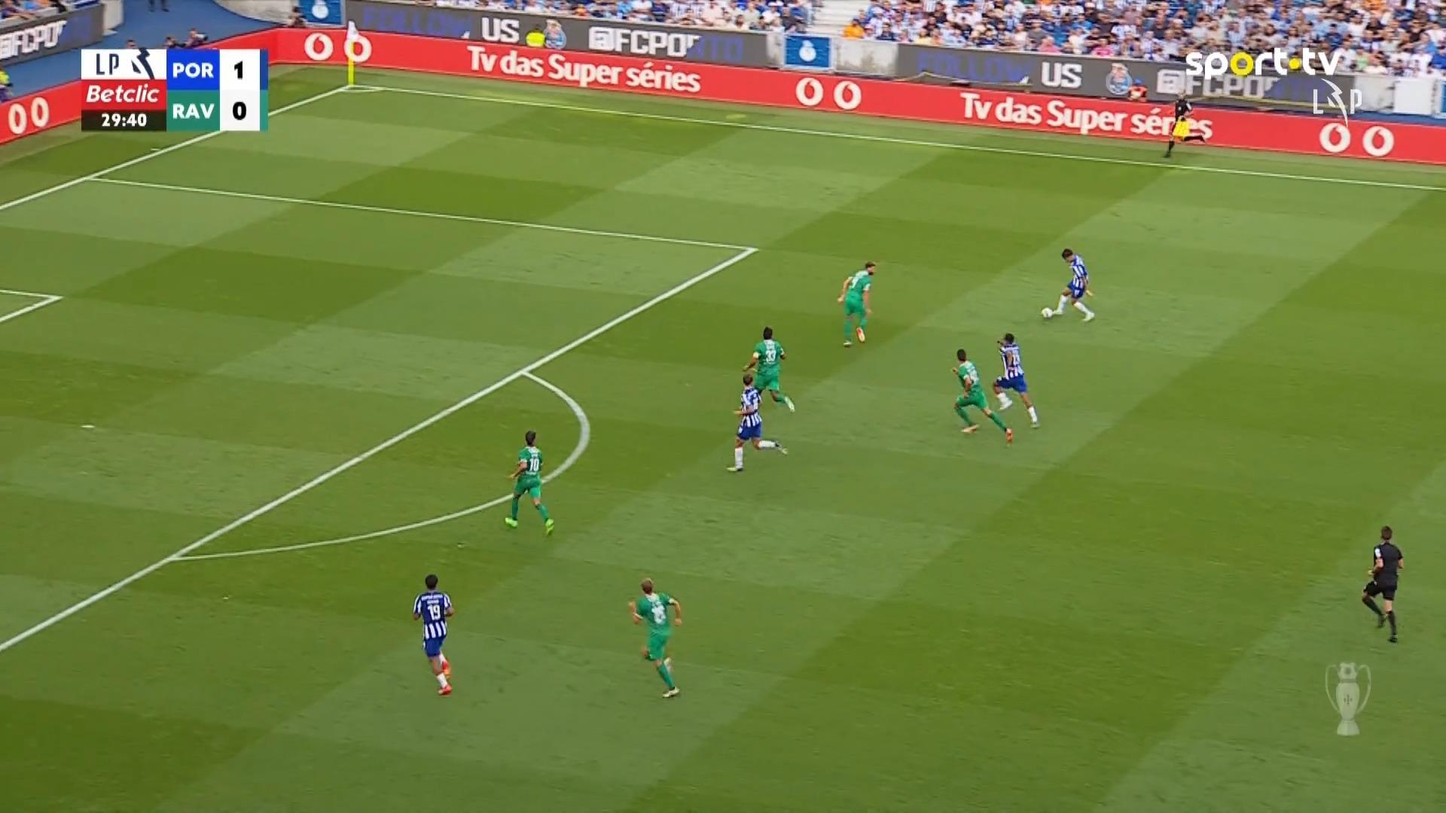ball: (1041, 306, 1052, 318)
player: (627, 577, 682, 698), (725, 372, 789, 472), (950, 348, 1013, 443), (503, 429, 554, 536), (411, 573, 455, 695), (990, 331, 1040, 428), (741, 325, 795, 413), (1040, 247, 1096, 322), (836, 260, 876, 347)
referee: (1360, 525, 1404, 642), (1163, 89, 1206, 157)
